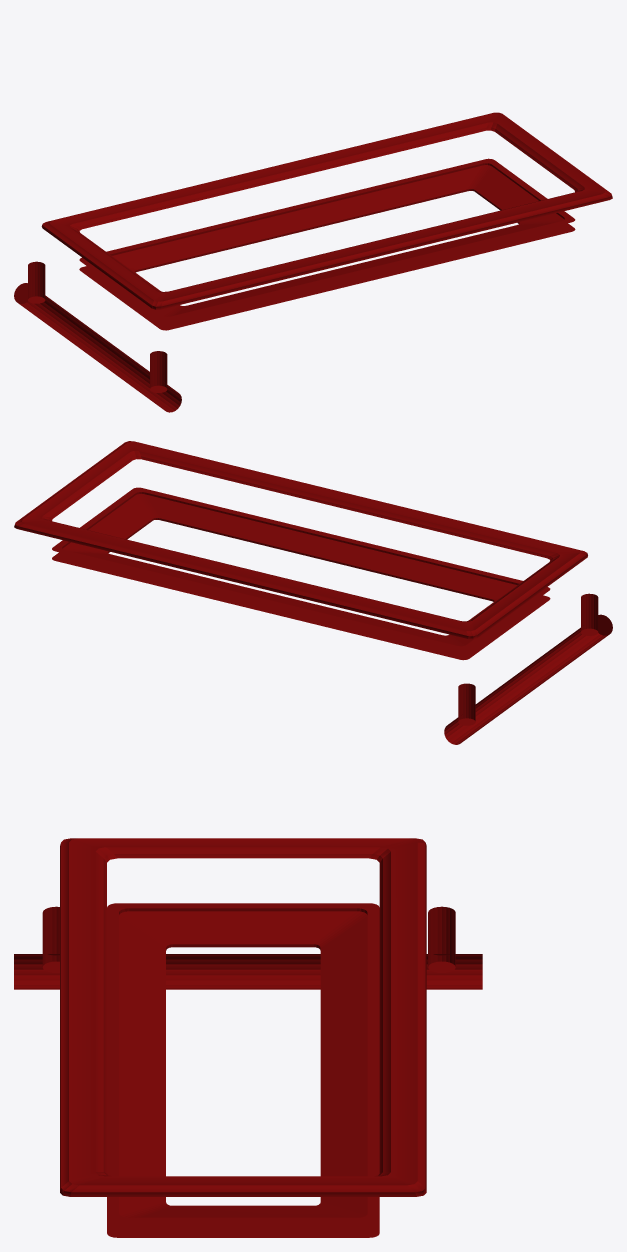
Rendered from DoormeshMicrowaveDoorA7_1_GeomSubset_1.obj.
The picture shows the model from 3 angles, top to bottom: view 1: azimuth 30°, elevation 25°; view 2: azimuth 150°, elevation 25°; view 3: azimuth 270°, elevation 25°; orthographic projection. The views are drawn at different scales.
Parts seen in each view (by area): view 1: DoormeshMicrowaveDoorA7_1_GeomSubset_1; view 2: DoormeshMicrowaveDoorA7_1_GeomSubset_1; view 3: DoormeshMicrowaveDoorA7_1_GeomSubset_1.
Part boxes in pixels (bbox=[...]): DoormeshMicrowaveDoorA7_1_GeomSubset_1: bbox=[14, 112, 612, 412]; DoormeshMicrowaveDoorA7_1_GeomSubset_1: bbox=[14, 441, 612, 744]; DoormeshMicrowaveDoorA7_1_GeomSubset_1: bbox=[14, 838, 482, 1237].
Size of the model in its own units: 0.4591 by 0.2045 by 0.3222.
